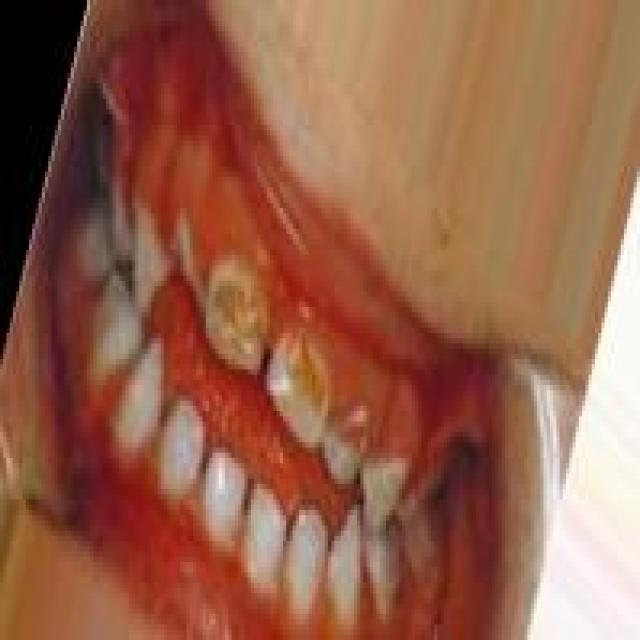caries: (263, 324, 330, 448), (198, 262, 268, 377), (329, 400, 377, 477)
